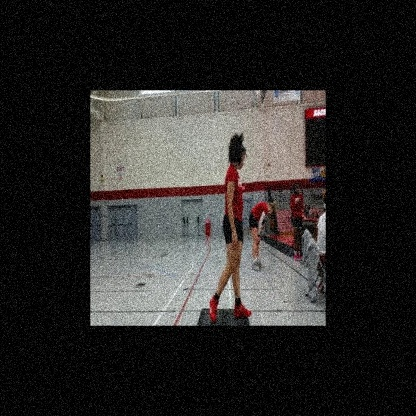lateral_flexion_left: (209, 130, 253, 326)
stance_width_broad: (209, 160, 252, 325)
